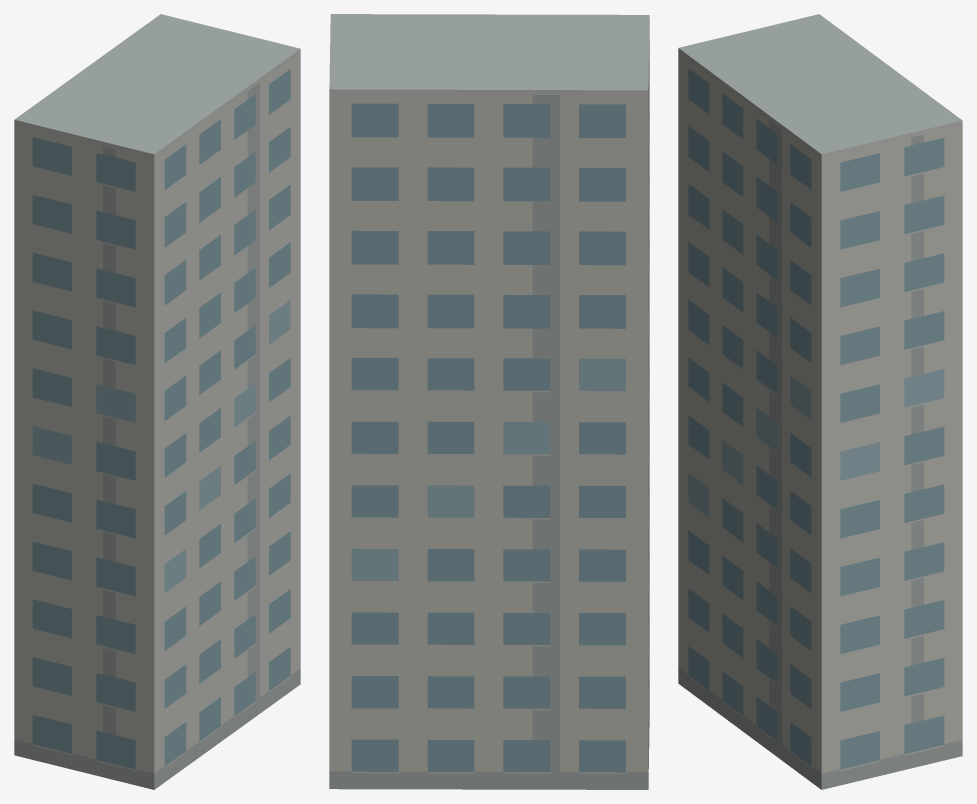
File: residential-d247725c-1fe8-4211-910e-cc3aa9f61313.glb
3 views of the same model, side by side, from view 1: azimuth 30°, elevation 25°; view 2: azimuth 150°, elevation 25°; view 3: azimuth 270°, elevation 25° (orthographic). The views are drawn at different scales.
Parts seen in each view (by area): view 1: residential-d247725c-1fe8-4211-910e-cc3aa9f61313.tmp; view 2: residential-d247725c-1fe8-4211-910e-cc3aa9f61313.tmp; view 3: residential-d247725c-1fe8-4211-910e-cc3aa9f61313.tmp.
Boxes of the visible parts, bbox=[...] form: residential-d247725c-1fe8-4211-910e-cc3aa9f61313.tmp: bbox=[14, 14, 300, 789]; residential-d247725c-1fe8-4211-910e-cc3aa9f61313.tmp: bbox=[329, 14, 649, 789]; residential-d247725c-1fe8-4211-910e-cc3aa9f61313.tmp: bbox=[678, 14, 962, 789].
Size of the model in its own units: 16.11 by 34 by 13.79.
